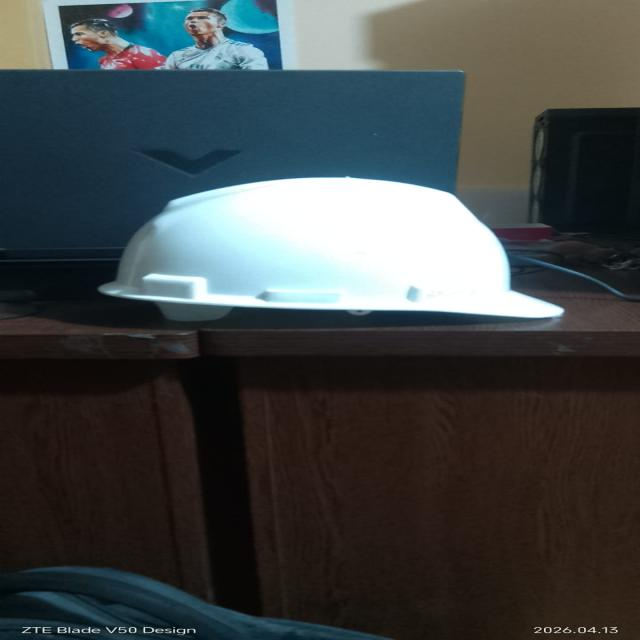casco: (92, 174, 581, 337)
